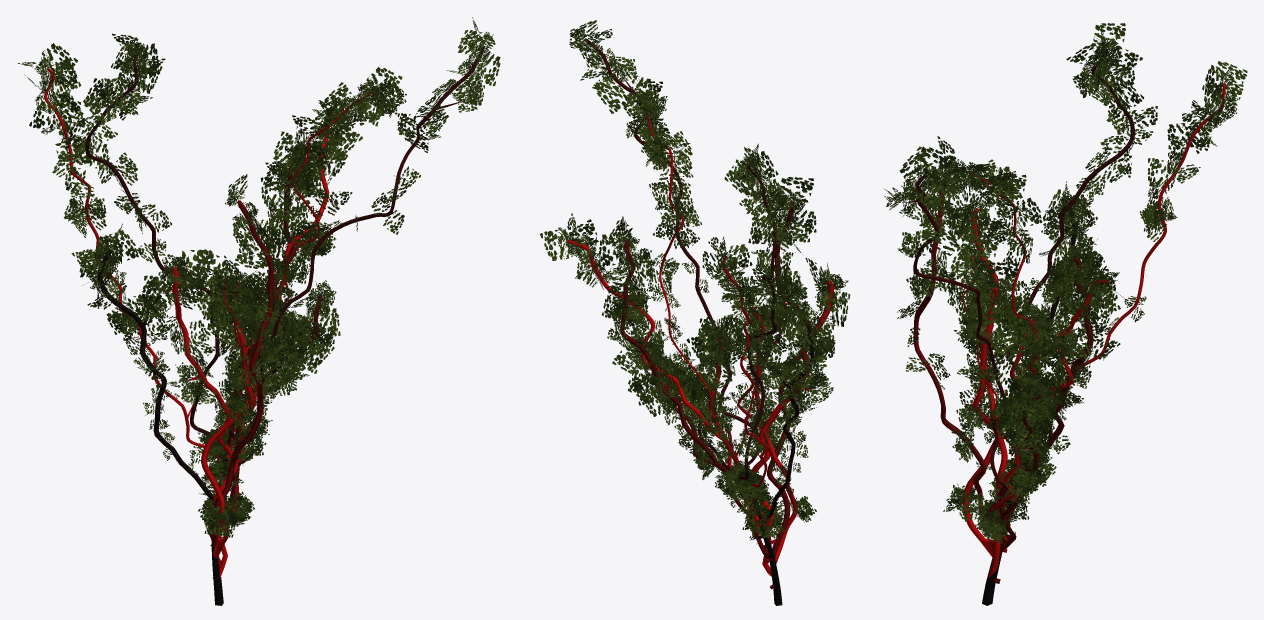
File: Tree_16.fbx
3 renders of one model, left to right at view 1: azimuth 30°, elevation 25°; view 2: azimuth 150°, elevation 25°; view 3: azimuth 270°, elevation 25°, orthographic. The views are drawn at different scales.
Parts seen in each view (by area): view 1: Tree_29; view 2: Tree_29; view 3: Tree_29.
Part boxes in pixels (x1,y1,x2,y2): Tree_29: (18,17,500,605); Tree_29: (539,20,850,605); Tree_29: (884,23,1247,605).
Size of the model in its own units: 1994 by 2914 by 1679.
